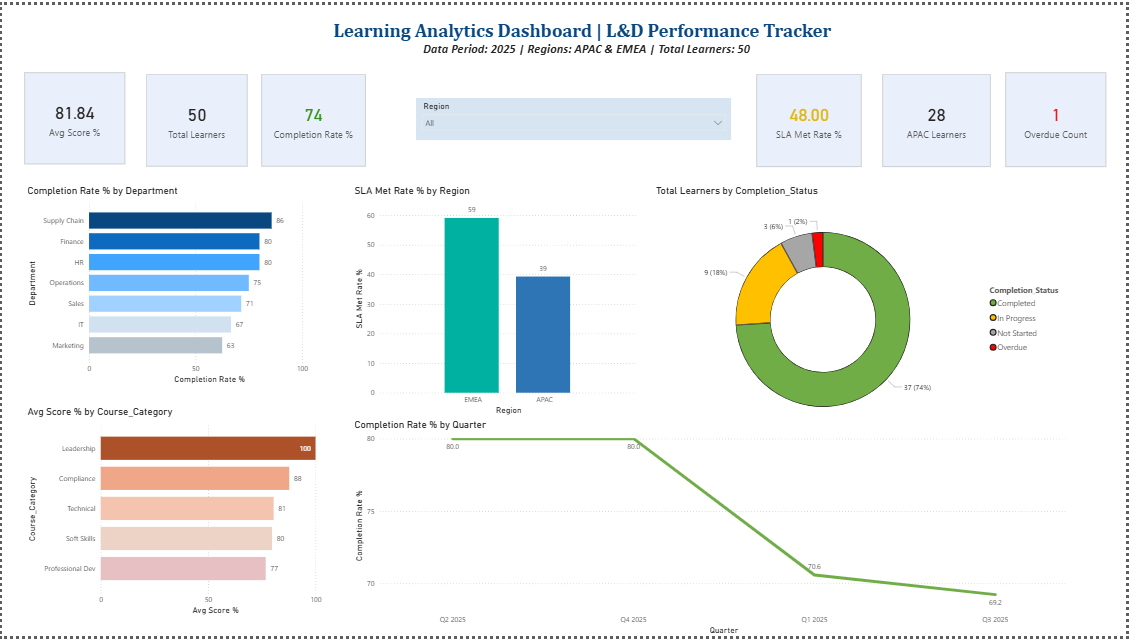

This screenshot's page, from the dashboard's own definition file:
{"tool":"powerbi","page":{"name":"Page 1","canvas":[1920,1080],"ordinal":0},"visuals":[{"type":"card","fields":{"Values":["Learning_Data.Total Learners"]},"box":[246.7,117.8,173.3,157.8],"z":0},{"type":"card","fields":{"Values":["Learning_Data.Avg Score %"]},"box":[38.5,115.4,171.8,156.4],"z":1000},{"type":"card","fields":{"Values":["Learning_Data.Completion Rate %"]},"box":[444.4,117.8,177.8,157.8],"z":2000},{"type":"card","fields":{"Values":["Learning_Data.Overdue Count"]},"box":[1715.4,115.4,171.8,161.5],"z":3000},{"type":"card","fields":{"Values":["Learning_Data.SLA Met Rate %"]},"box":[1289.7,117.9,179.5,159],"z":4000},{"type":"card","fields":{"Values":["Learning_Data.APAC Learners"]},"box":[1505.1,117.9,184.6,159],"z":5000},{"type":"textbox","box":[562.2,17.8,875.6,84.4],"z":6000},{"type":"clusteredBarChart","fields":{"Category":["Learning_Data.Department"],"Y":["Learning_Data.Completion Rate %"]},"box":[37.8,308.9,537.8,344.4],"z":7000},{"type":"donutChart","fields":{"Category":["Learning_Data.Completion_Status"],"Y":["Learning_Data.Total Learners"]},"box":[1113.3,308.9,713.3,440],"z":8000},{"type":"clusteredColumnChart","fields":{"Y":["Learning_Data.SLA Met Rate %"],"Category":["Learning_Data.Region"]},"box":[597.8,308.9,493.3,397.8],"z":9000},{"type":"clusteredBarChart","fields":{"Y":["Learning_Data.Avg Score %"],"Category":["Learning_Data.Course_Category"]},"box":[37.8,684.4,537.8,362.2],"z":10000},{"type":"lineChart","fields":{"Category":["Learning_Data.Quarter"],"Y":["Learning_Data.Completion Rate %"]},"box":[597.8,706.7,1228.9,373.3],"z":11000},{"type":"slicer","fields":{"Values":["Learning_Data.Region"]},"box":[707.7,159,538.5,71.8],"z":11001}]}

Visuals, with their boxes in screenshot pixels (x1, y1, x2, y2), scaled from the page's 1920x1080 canvas onto the 1131x640 screenshot:
card - Learning_Data.Total Learners: {"x1": 145, "y1": 70, "x2": 247, "y2": 163}
card - Learning_Data.Avg Score %: {"x1": 23, "y1": 68, "x2": 124, "y2": 161}
card - Learning_Data.Completion Rate %: {"x1": 262, "y1": 70, "x2": 367, "y2": 163}
card - Learning_Data.Overdue Count: {"x1": 1010, "y1": 68, "x2": 1112, "y2": 164}
card - Learning_Data.SLA Met Rate %: {"x1": 760, "y1": 70, "x2": 865, "y2": 164}
card - Learning_Data.APAC Learners: {"x1": 887, "y1": 70, "x2": 995, "y2": 164}
textbox: {"x1": 331, "y1": 11, "x2": 847, "y2": 61}
clusteredBarChart - Learning_Data.Department x Learning_Data.Completion Rate %: {"x1": 22, "y1": 183, "x2": 339, "y2": 387}
donutChart - Learning_Data.Completion_Status x Learning_Data.Total Learners: {"x1": 656, "y1": 183, "x2": 1076, "y2": 444}
clusteredColumnChart - Learning_Data.SLA Met Rate % x Learning_Data.Region: {"x1": 352, "y1": 183, "x2": 643, "y2": 419}
clusteredBarChart - Learning_Data.Avg Score % x Learning_Data.Course_Category: {"x1": 22, "y1": 406, "x2": 339, "y2": 620}
lineChart - Learning_Data.Quarter x Learning_Data.Completion Rate %: {"x1": 352, "y1": 419, "x2": 1076, "y2": 639}
slicer - Learning_Data.Region: {"x1": 417, "y1": 94, "x2": 734, "y2": 137}
